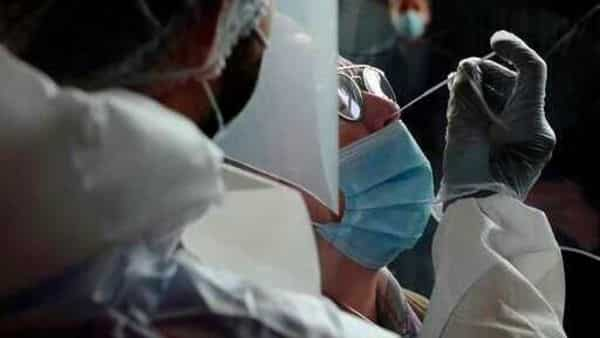Gloves: (436, 26, 562, 211)
with_mask: (328, 60, 438, 275)
